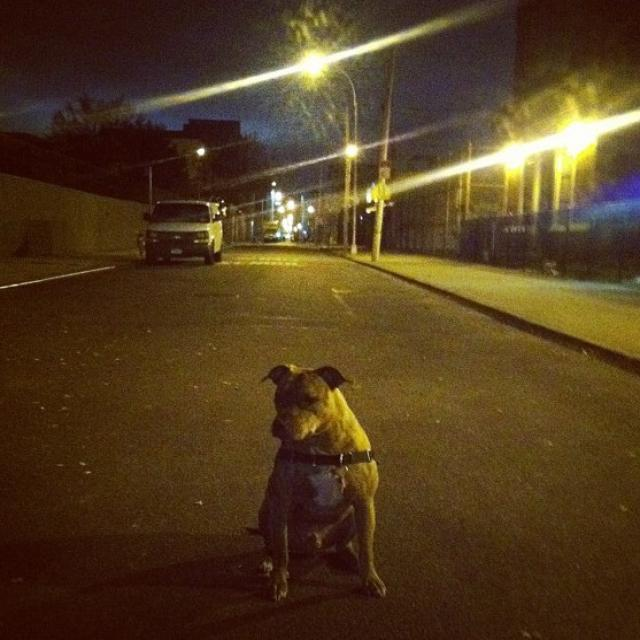Dog: (262, 328, 394, 610)
